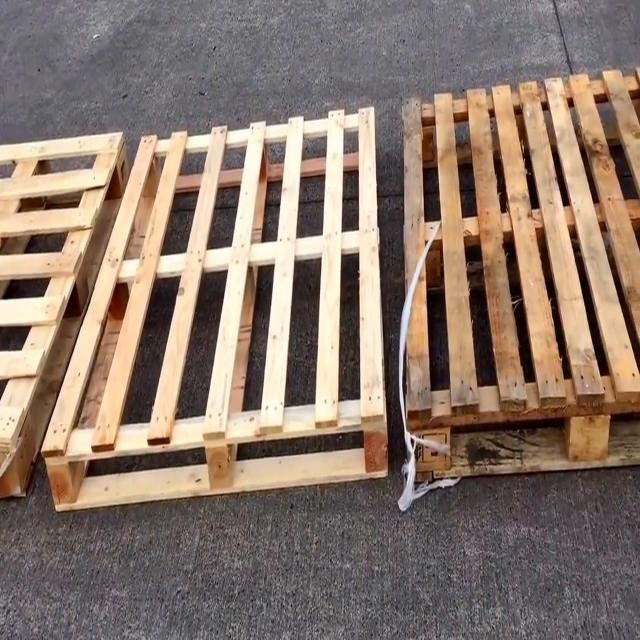Palette: (42, 102, 390, 523), (393, 68, 640, 488), (0, 118, 129, 510)
